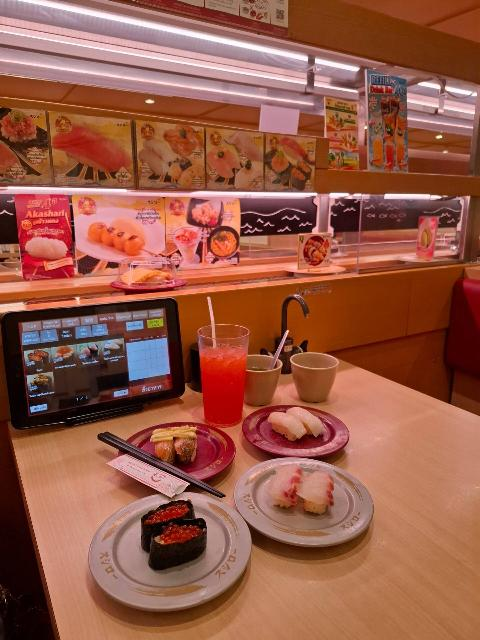janred: (224, 397, 356, 447), (120, 428, 233, 479), (124, 277, 181, 304)
janwhite: (111, 501, 276, 611), (229, 474, 380, 558)
